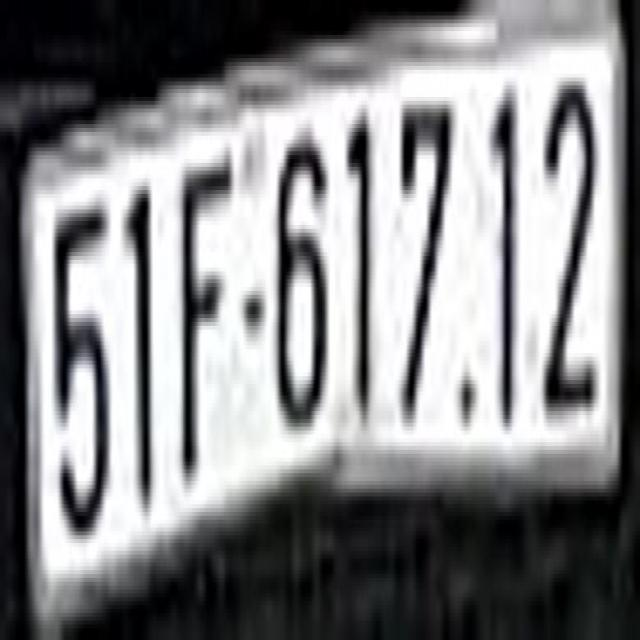1: (120, 182, 154, 520), (342, 93, 373, 442), (488, 93, 517, 438)
2: (542, 66, 604, 430)
5: (50, 194, 114, 547)
6: (274, 120, 332, 438)
7: (396, 86, 454, 434)
F: (179, 155, 237, 481)
